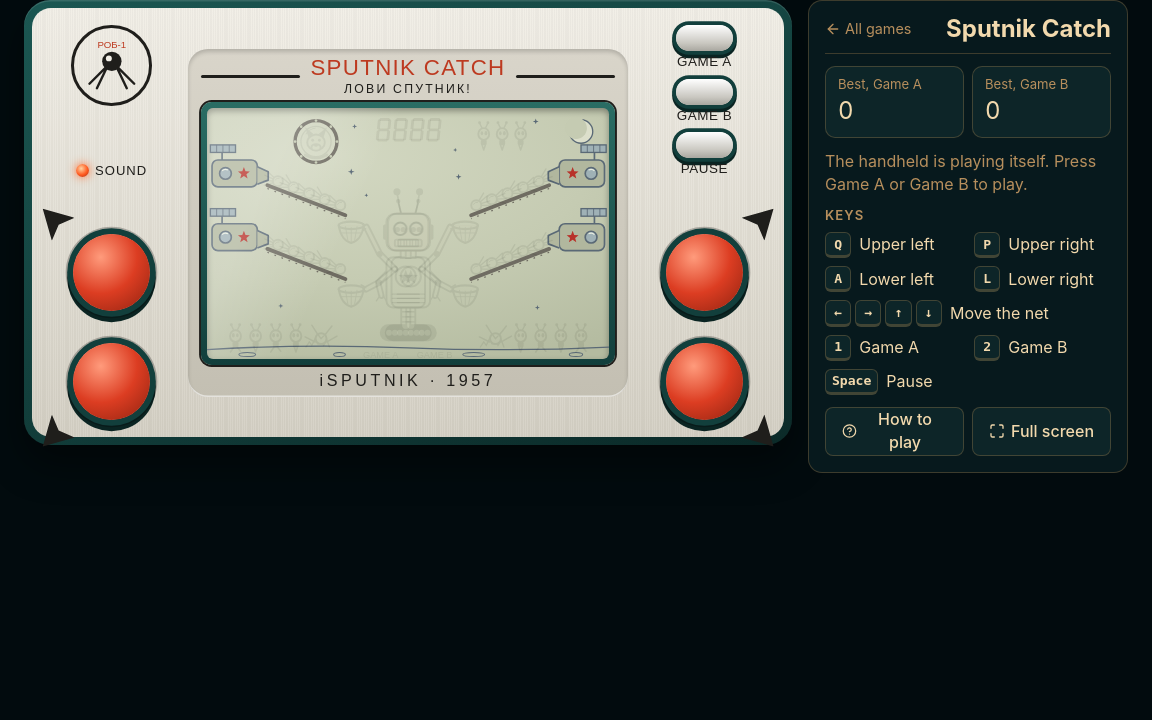
Test: SputnikPage › keeps the keys in view, and the rules behind How to play, which pauses a run
This screenshot has width=1152, height=720.
Expected: the element "Keys" shows "Upper left", [859,234,934,254]
Expected: the element "Keys" shows "Lower left", [859,269,934,289]
Click the button named "Start Game A": (704, 38) [676,25,733,51]
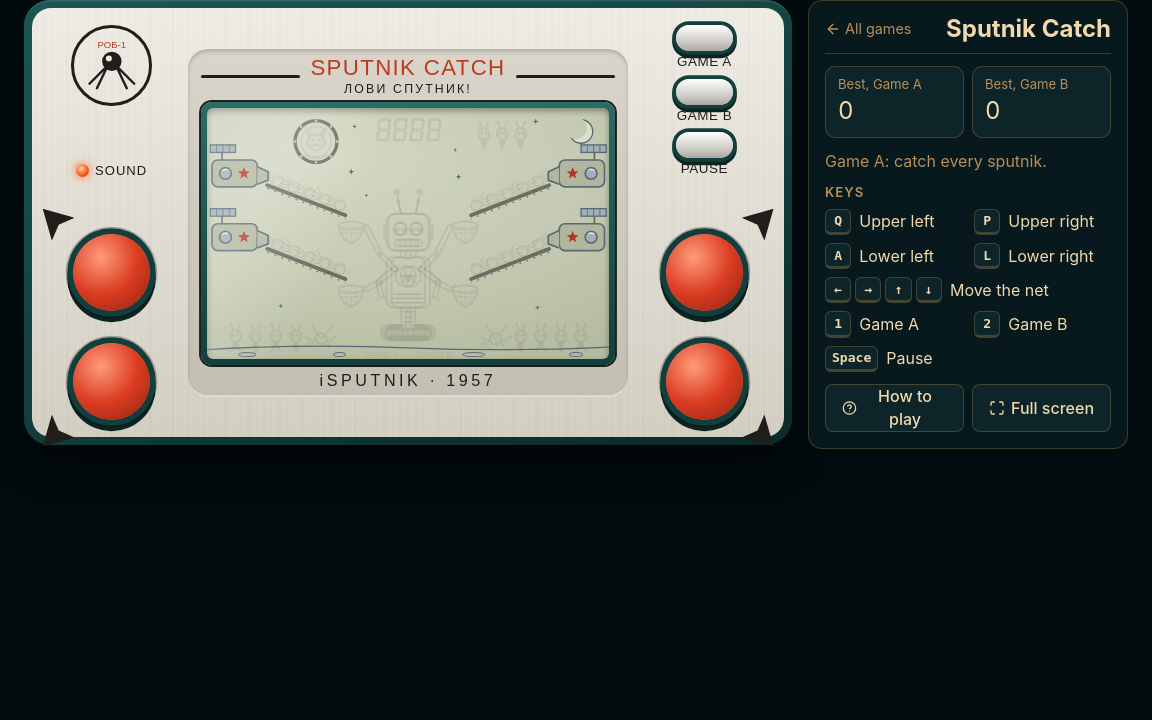
Click the button "How to play": (894, 408) [825,384,964,432]
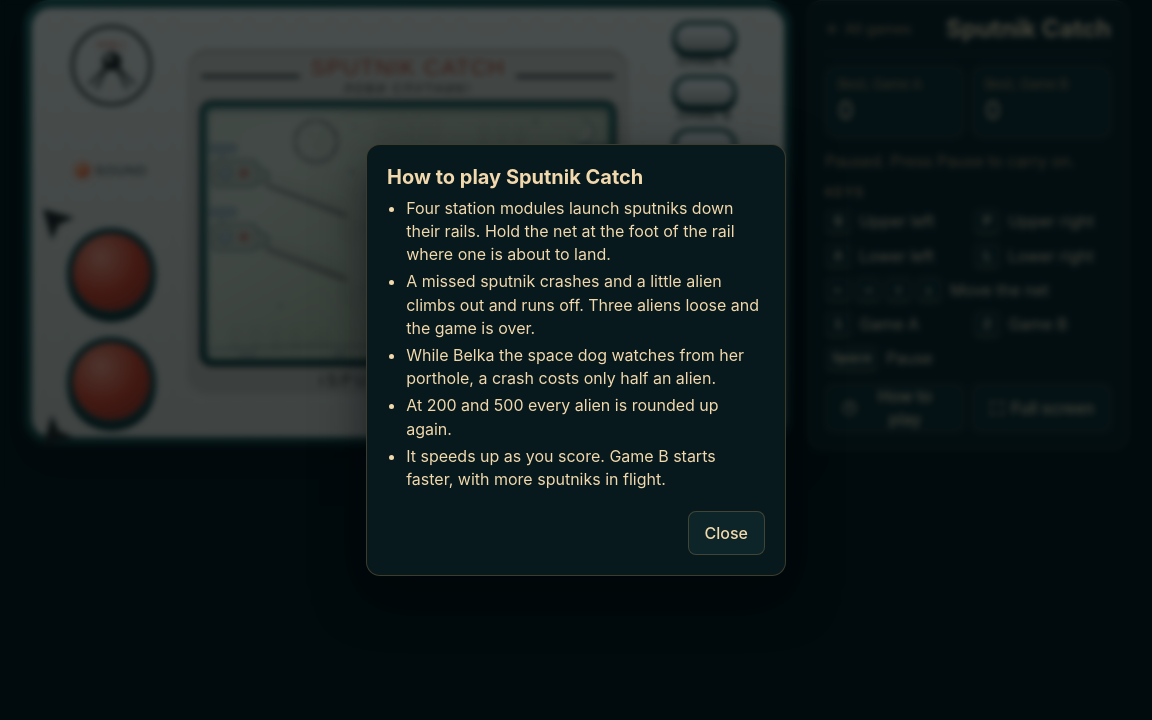
Result: the dialog "How to play Sputnik Catch" shows "Belka the space dog" at [406,345,744,388]
// Keys pressed inside the dialog are the dialog's, not the handheld's.
Press l in the dialog "How to play Sputnik Catch", box [366,144,786,576]
Click the button "Close": (726, 533) [688,511,765,555]
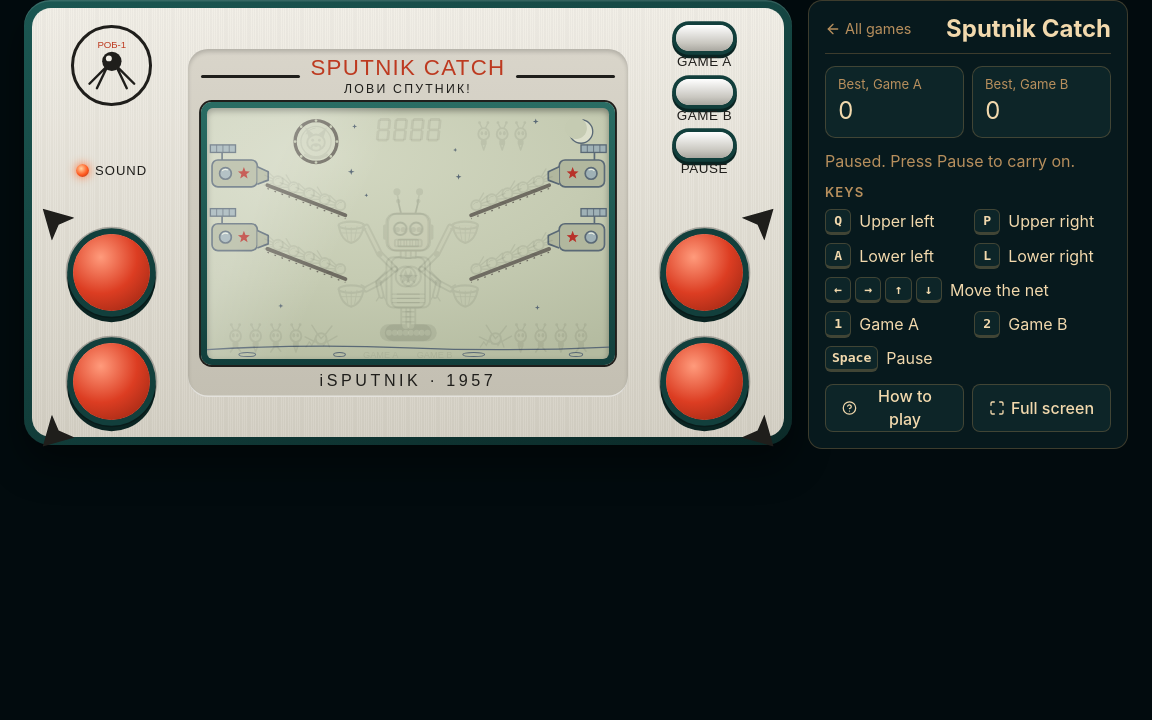
Result: the dialog is gone
